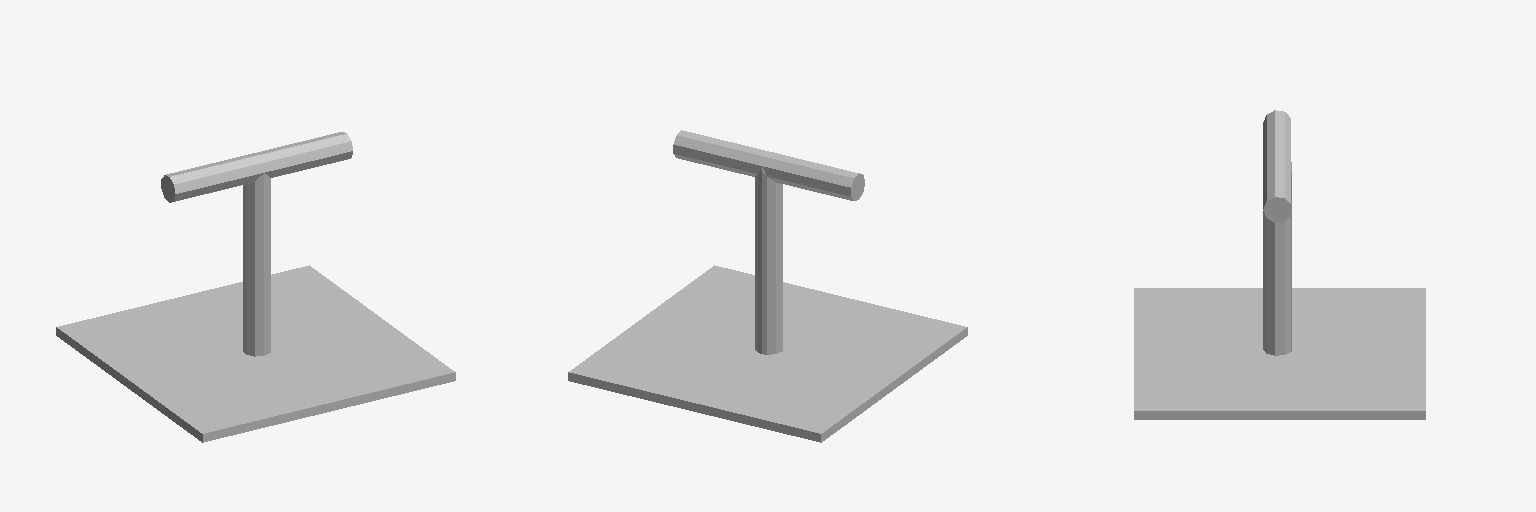
File: Stander.obj
3 renders of one model, left to right at view 1: azimuth 30°, elevation 25°; view 2: azimuth 150°, elevation 25°; view 3: azimuth 270°, elevation 25°, orthographic.
Parts seen in each view (by area): view 1: Parrot_stand_Mesh; view 2: Parrot_stand_Mesh; view 3: Parrot_stand_Mesh.
Boxes of the visible parts, x1,y1,x2,y2 form: Parrot_stand_Mesh: [56, 132, 455, 442]; Parrot_stand_Mesh: [568, 130, 967, 442]; Parrot_stand_Mesh: [1134, 110, 1425, 419].
Bounding box in the file's own units: 1.42 × 1.1 × 1.42.